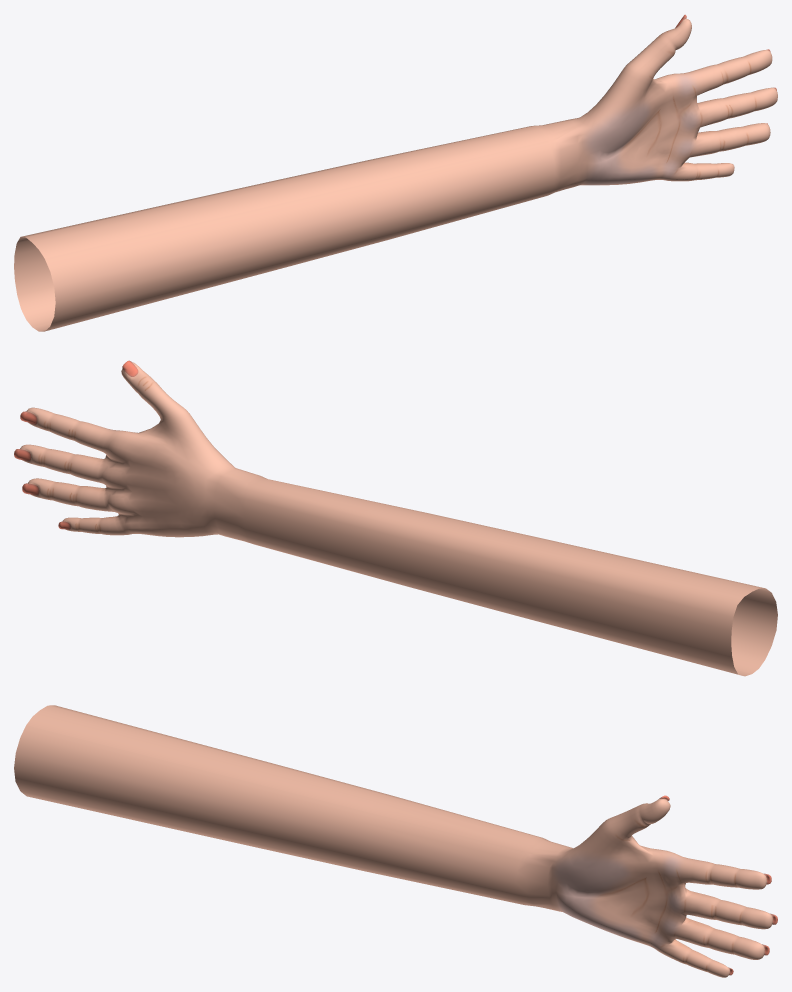
The model's file is el_engeli.fbx.
3 renders of one model, top to bottom at view 1: azimuth 30°, elevation 25°; view 2: azimuth 150°, elevation 25°; view 3: azimuth 330°, elevation 25°, orthographic. The views are drawn at different scales.
Visible parts, largest first — view 1: el engeli; view 2: el engeli; view 3: el engeli.
Boxes of the visible parts, x1,y1,x2,y2 form: el engeli: (14,14,777,331); el engeli: (14,360,777,676); el engeli: (14,705,777,977).
Bounding box in the file's own units: 262 × 60 × 27.05.
1 material, 1 textured.
